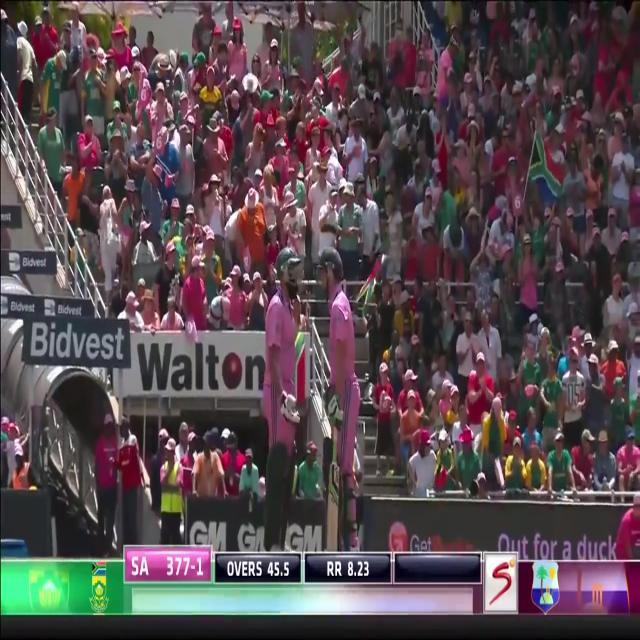Ball: (310, 248, 376, 551), (253, 248, 308, 554)
